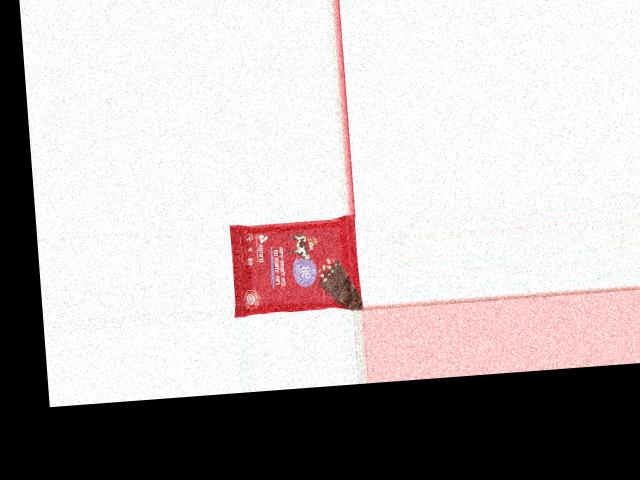chocolate: (227, 214, 361, 315)
